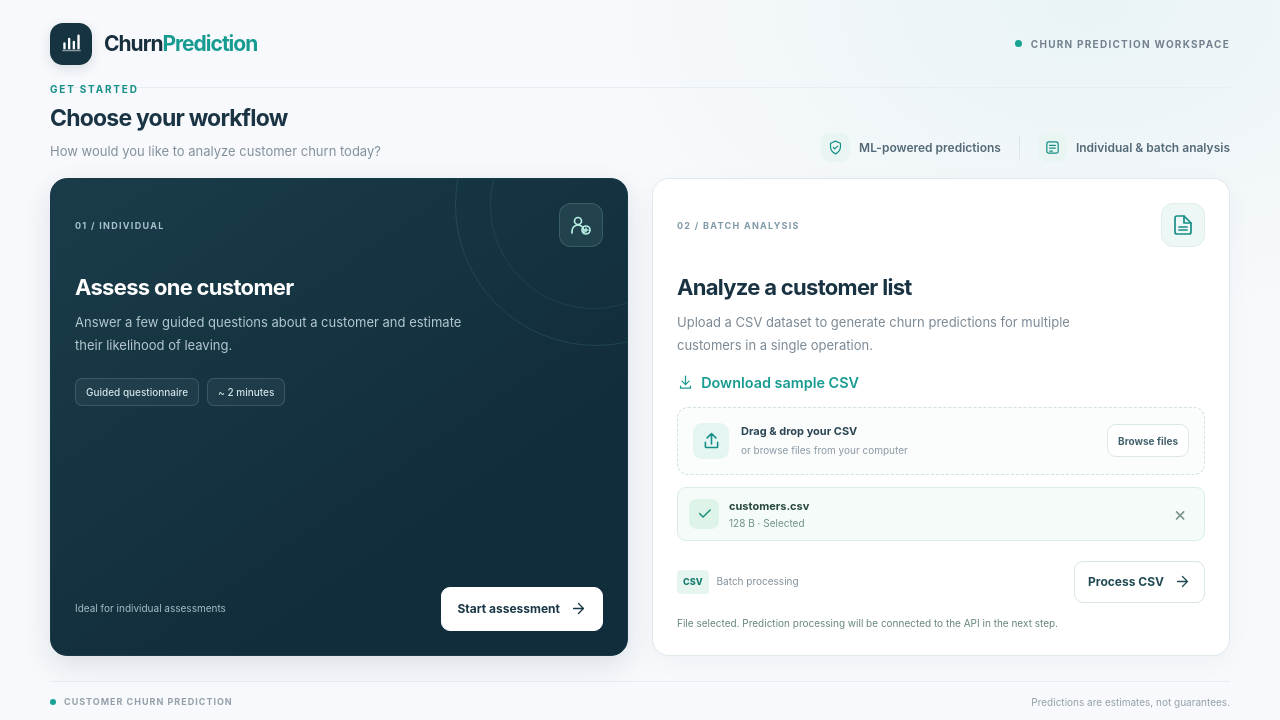
App › CSV selection › removes a selected file
Earlier steps of the test are not shown.
Click the button named "Remove selected file" at (1180, 514), box [1167, 501, 1193, 527]
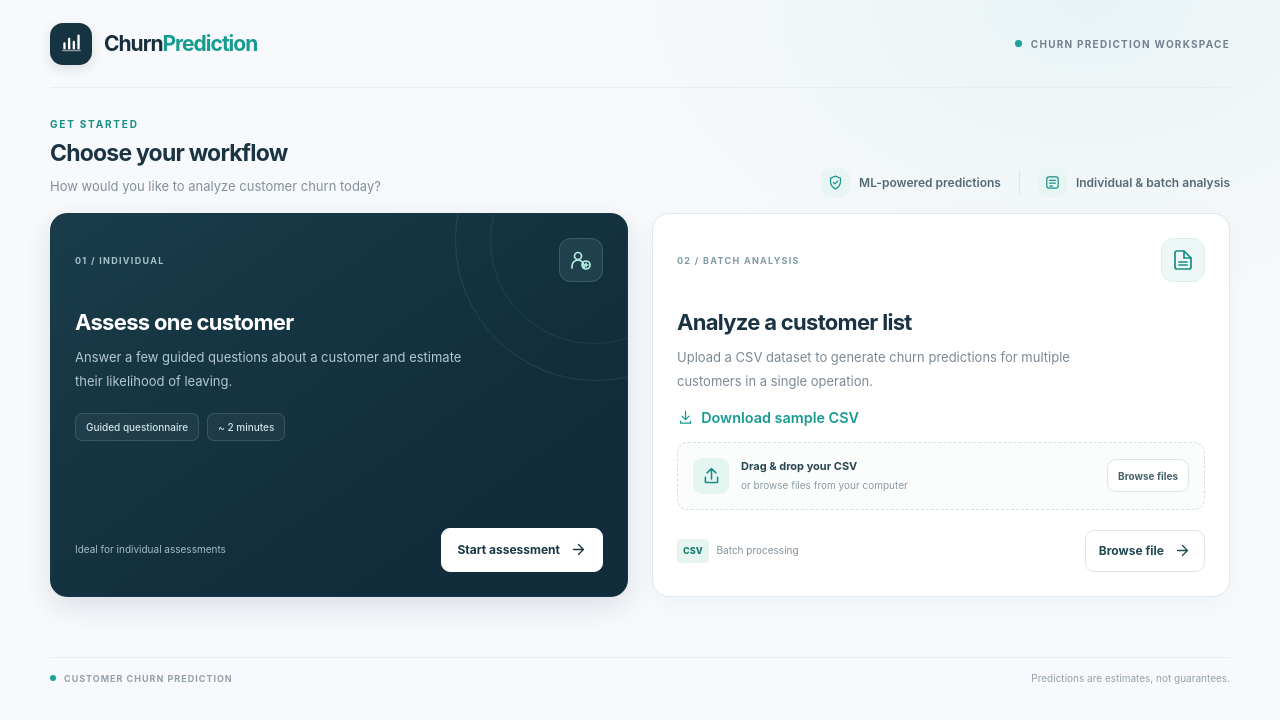
Expected: the text "customers.csv" is gone
Expected: the button "Browse file" is shown, [1085, 530, 1205, 572]
